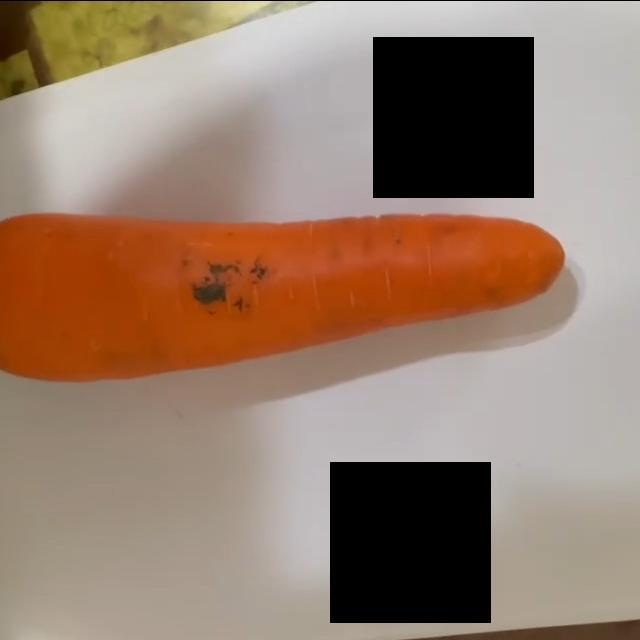carrot: (1, 208, 564, 386)
